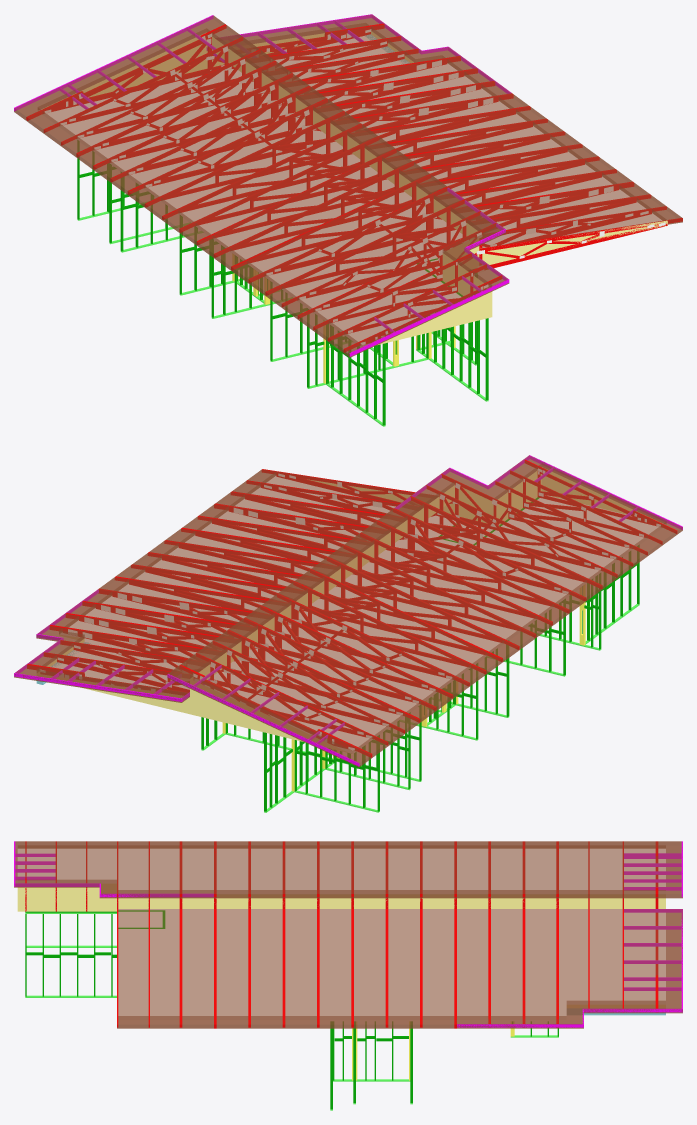
3 renders of one model, top to bottom at view 1: azimuth 30°, elevation 25°; view 2: azimuth 150°, elevation 25°; view 3: azimuth 270°, elevation 25°, orthographic. The views are drawn at different scales.
Visible parts, largest first — view 1: Entity (×17), TrussTopChord (×36), TrussBottomChord (×17); view 2: Entity (×19), TrussTopChord (×38), TrussBottomChord (×16); view 3: Entity (×9), TrussTopChord (×5).
Part boxes in pixels (x1,y1,x2,y2): Entity (×17): (14,14,682,426); TrussTopChord (×36): (14,15,682,356); TrussBottomChord (×17): (51,32,667,309); Entity (×19): (14,455,682,812); TrussTopChord (×38): (14,455,682,766); TrussBottomChord (×16): (57,475,609,736); Entity (×9): (14,841,682,1081); TrussTopChord (×5): (179,909,582,1027).
Size of the model in its own units: 11.6 by 3.96 by 17.55.
